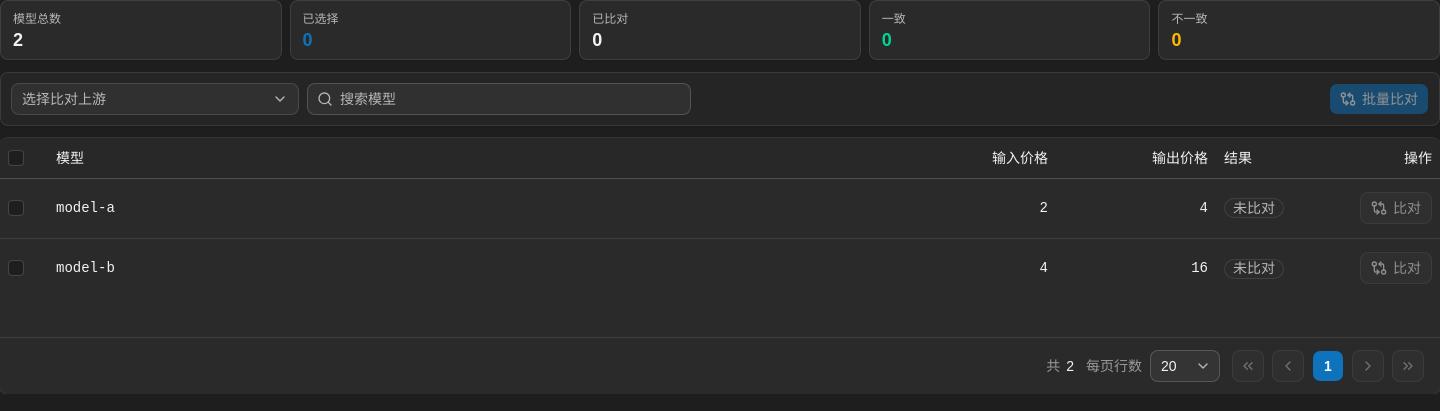
Test: New API 价格比对 › 上游名称为  时回退显示地址与平台类型
Click the dropdown labelled "比对上游" at x=64, y=99, box x1=11 y1=83 x2=299 y2=115
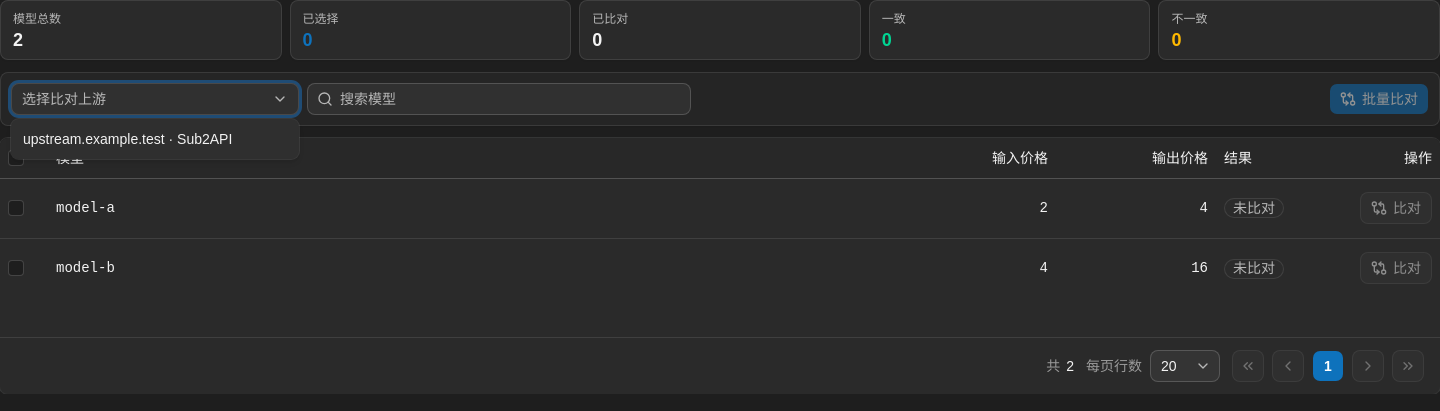
Check: the option "upstream.example.test · Sub2API" is shown, box x1=15 y1=123 x2=295 y2=155
